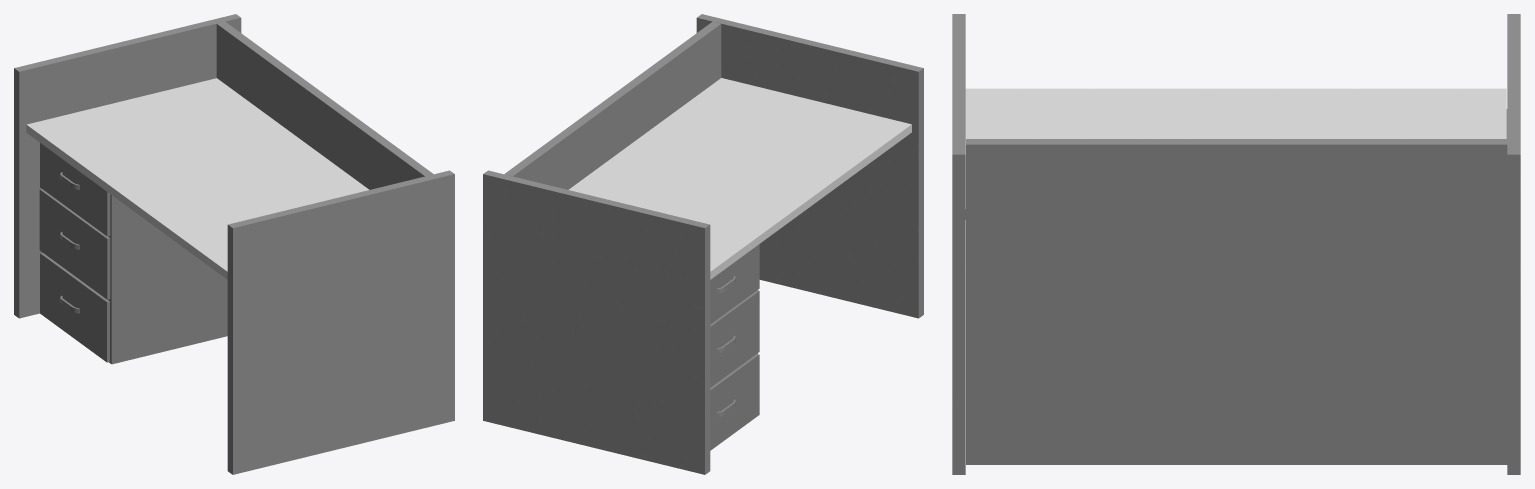
The model's file is office desk.fbx.
3 views of the same model, side by side, from view 1: azimuth 30°, elevation 25°; view 2: azimuth 150°, elevation 25°; view 3: azimuth 270°, elevation 25° (orthographic). The views are drawn at different scales.
Parts seen in each view (by area): view 1: pCube420; view 2: pCube420; view 3: pCube420.
Part boxes in pixels (box(x1,y1,x2,y2)): pCube420: box(14, 14, 454, 474); pCube420: box(483, 14, 923, 474); pCube420: box(952, 14, 1520, 474).
Size of the model in its own units: 1.17 by 1.24 by 2.
1 material, 1 textured.
